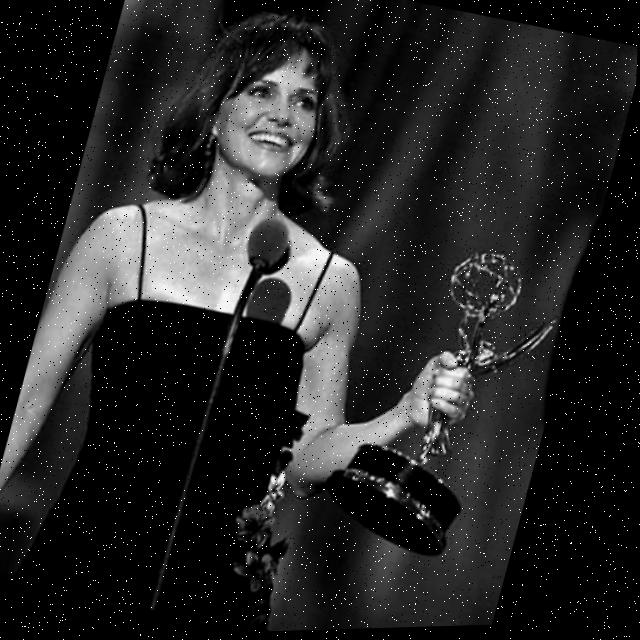face: (203, 40, 333, 188)
